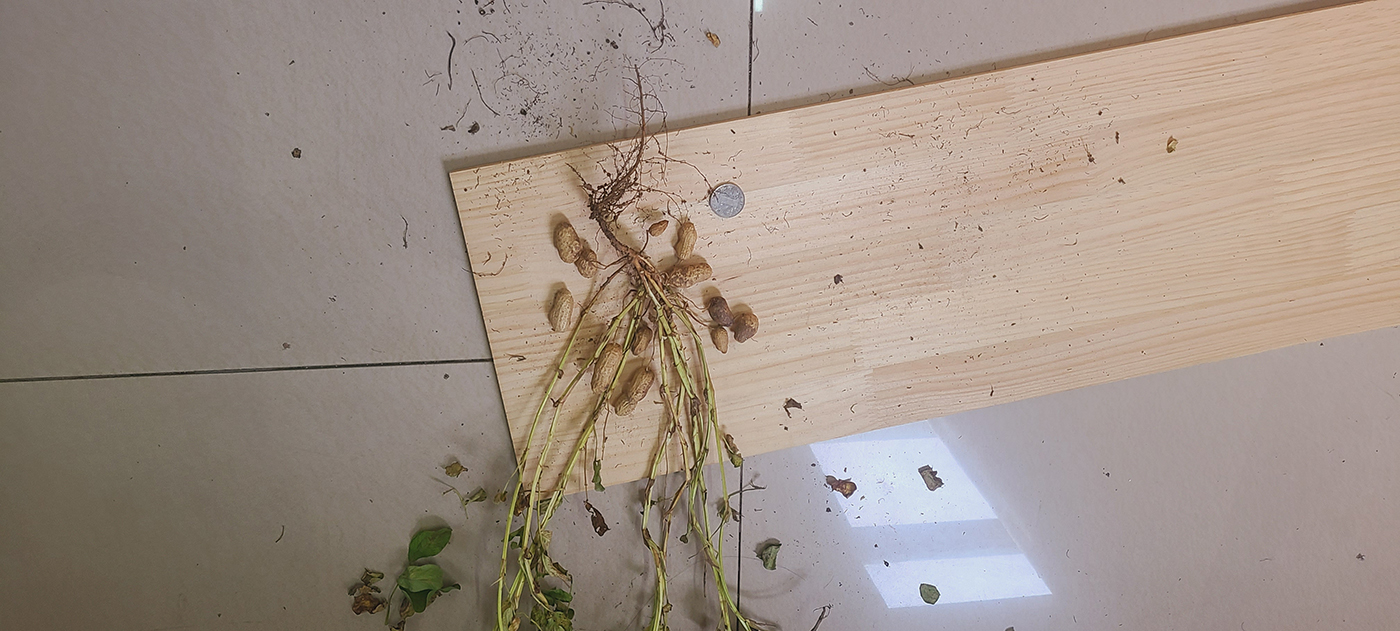h: (613, 365, 656, 416), (590, 342, 624, 395), (546, 287, 575, 334), (552, 220, 580, 264), (666, 264, 713, 286), (673, 221, 697, 260), (629, 325, 653, 355), (577, 248, 597, 280), (711, 327, 730, 354)
l: (708, 296, 734, 327), (734, 312, 759, 343)
